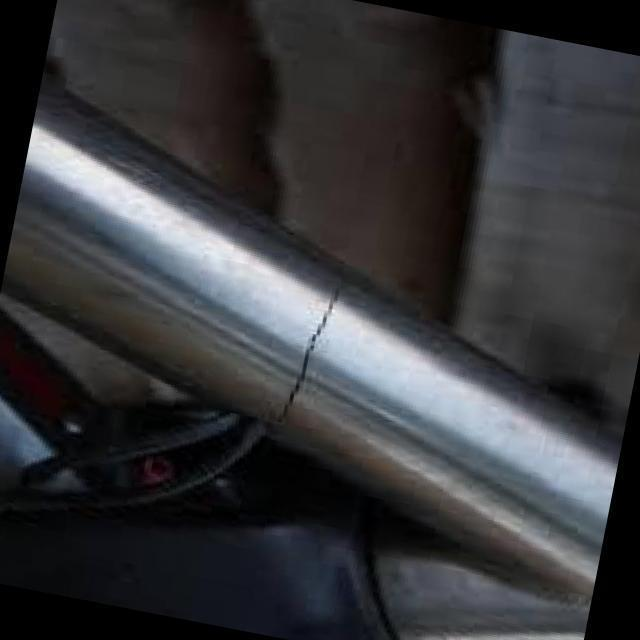defect: (270, 281, 349, 428)
